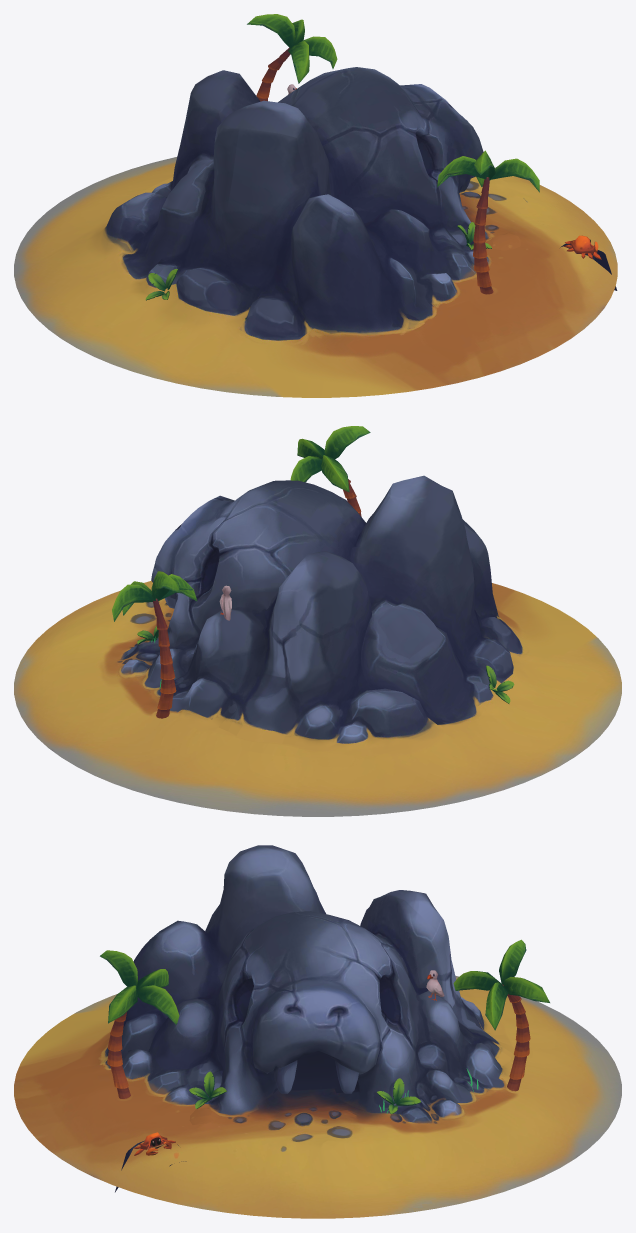
File: cave.glb
The picture shows the model from 3 angles, top to bottom: view 1: azimuth 30°, elevation 25°; view 2: azimuth 150°, elevation 25°; view 3: azimuth 270°, elevation 25°; orthographic projection.
Visible parts, largest first — view 1: Object_6, Object_7; view 2: Object_6, Object_7; view 3: Object_7, Object_6.
Boxes of the visible parts, box(x1,y1,x2,y2) form: Object_6: box(106, 67, 490, 340); Object_7: box(14, 14, 617, 397); Object_6: box(118, 475, 522, 743); Object_7: box(14, 426, 621, 816); Object_7: box(14, 939, 621, 1218); Object_6: box(104, 845, 505, 1123).
Bounding box in the file's own units: 23.56 × 9.36 × 23.59.
3 materials, 3 textured.
